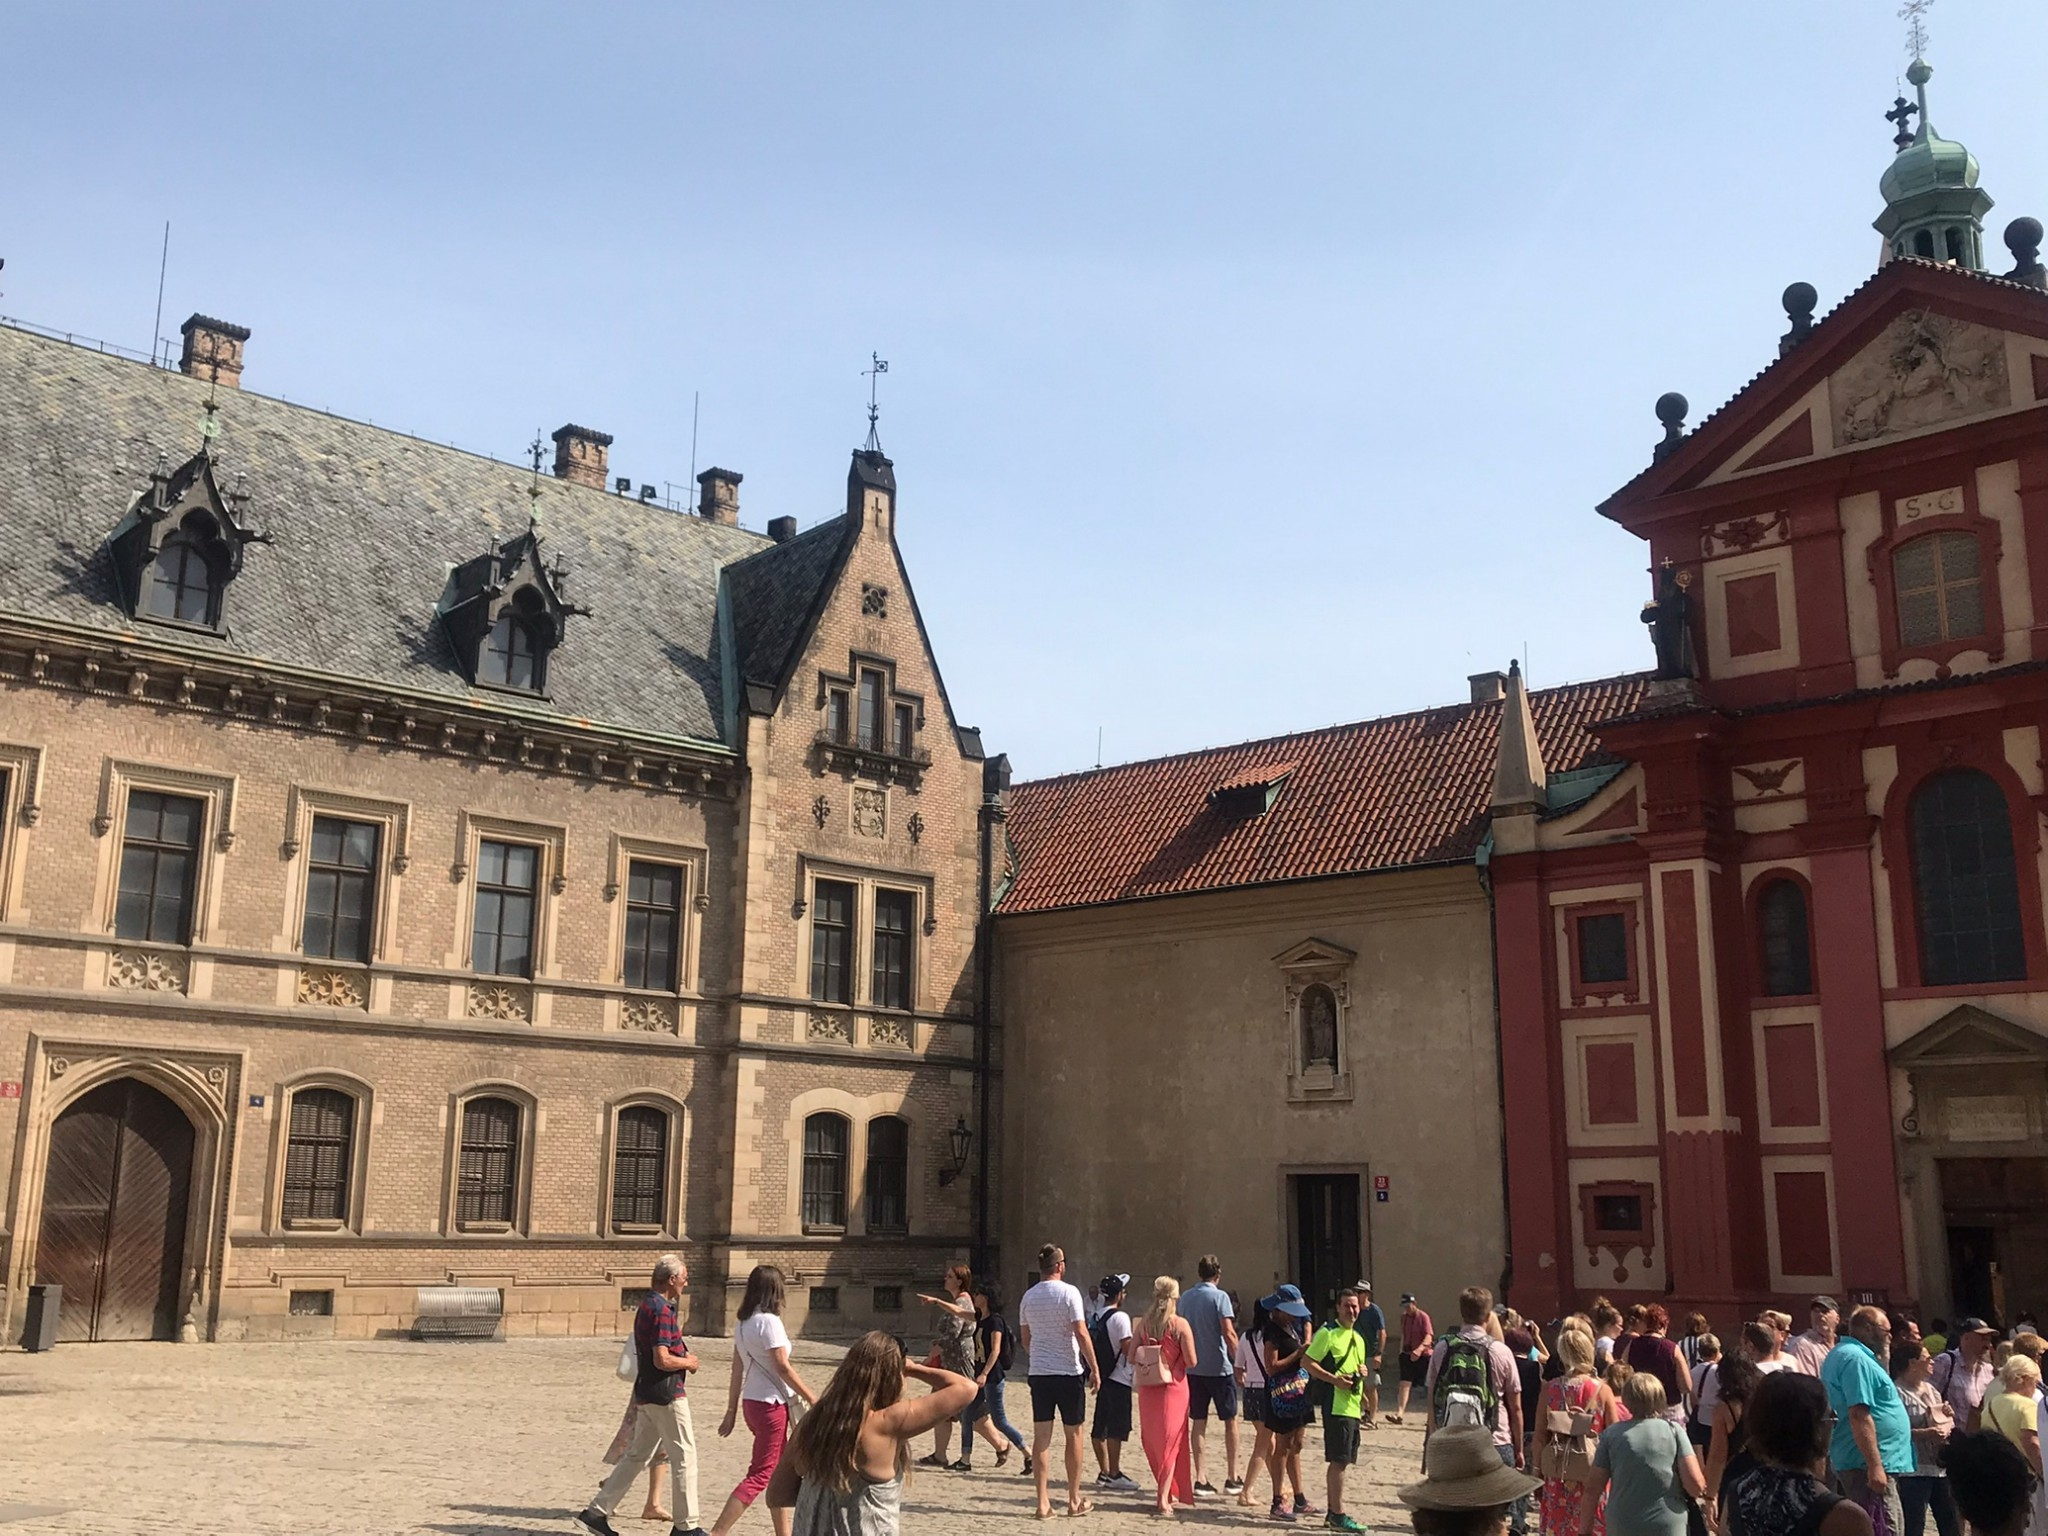people: (622, 1255, 710, 1536), (722, 1266, 813, 1536), (804, 1331, 919, 1536), (1022, 1240, 1099, 1525), (1546, 1325, 1628, 1536), (1604, 1381, 1707, 1536), (1757, 1372, 1854, 1534), (1393, 1422, 1528, 1536), (1137, 1272, 1193, 1531), (1846, 1310, 1916, 1513), (1452, 1284, 1528, 1455), (937, 1263, 990, 1481), (1237, 1293, 1290, 1490), (1272, 1284, 1316, 1522), (1190, 1255, 1234, 1484), (1996, 1352, 2048, 1505), (1102, 1275, 1140, 1478), (1340, 1284, 1372, 1525), (981, 1299, 1025, 1463), (1740, 1325, 1807, 1399), (1387, 1293, 1434, 1390), (1907, 1346, 1952, 1443), (1366, 1284, 1387, 1416), (1969, 1316, 1999, 1399), (2019, 1325, 2048, 1372)
